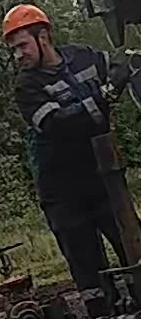gloves: (96, 45, 137, 108)
helmet: (1, 3, 50, 42)
vest: (13, 43, 119, 200)
